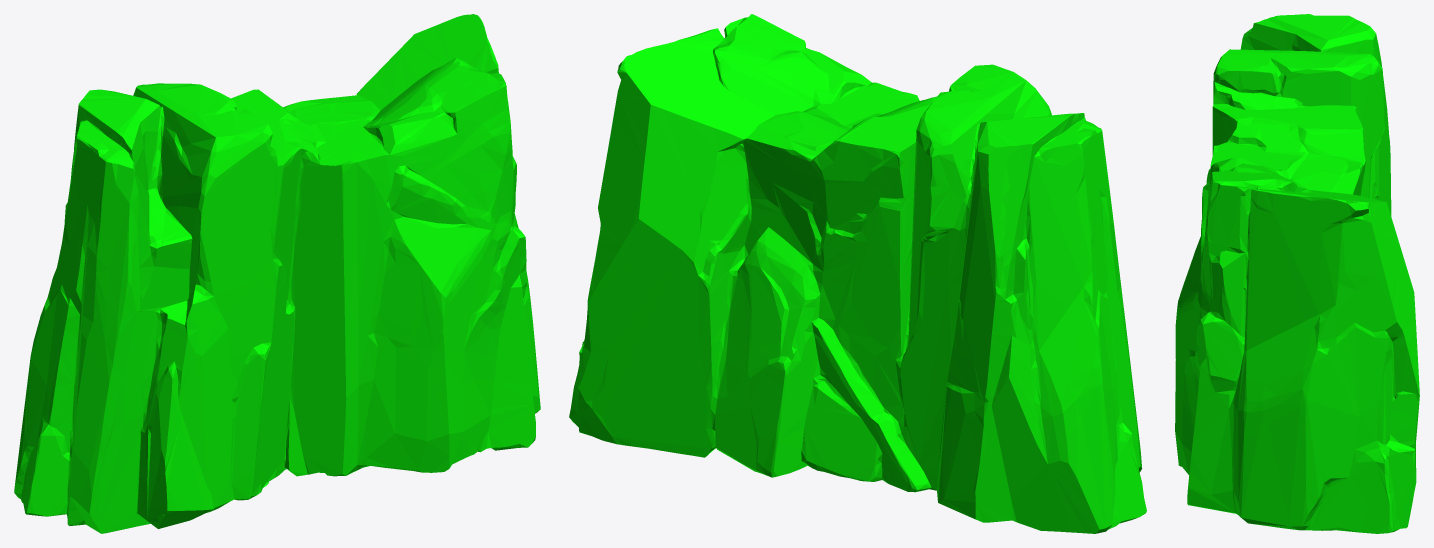
File: SM_Iceberg_Big_D_Rock.fbx
3 renders of one model, left to right at view 1: azimuth 30°, elevation 25°; view 2: azimuth 150°, elevation 25°; view 3: azimuth 270°, elevation 25°, orthographic. The views are drawn at different scales.
Visible parts, largest first — view 1: SM_Iceberg_Big_D_Rock; view 2: SM_Iceberg_Big_D_Rock; view 3: SM_Iceberg_Big_D_Rock.
Boxes of the visible parts, bbox=[...] form: SM_Iceberg_Big_D_Rock: bbox=[14, 14, 540, 533]; SM_Iceberg_Big_D_Rock: bbox=[569, 14, 1146, 533]; SM_Iceberg_Big_D_Rock: bbox=[1175, 14, 1419, 533].
Size of the model in its own units: 34.25 by 24.06 by 15.53.
